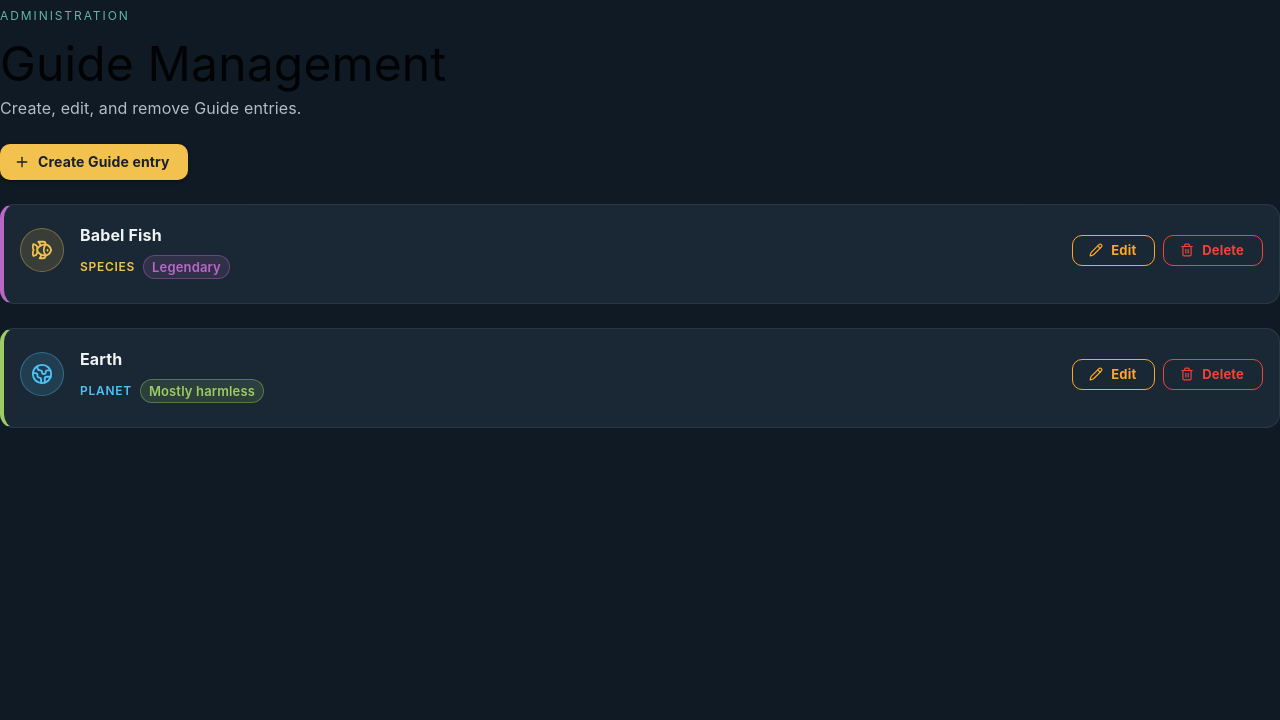
it: AdminGuidePage › opens an empty create dialog from the create button
Check: the heading "Earth" is shown, box [80, 349, 122, 369]
Click the button "Create Guide entry" at (94, 162), box [0, 144, 188, 180]
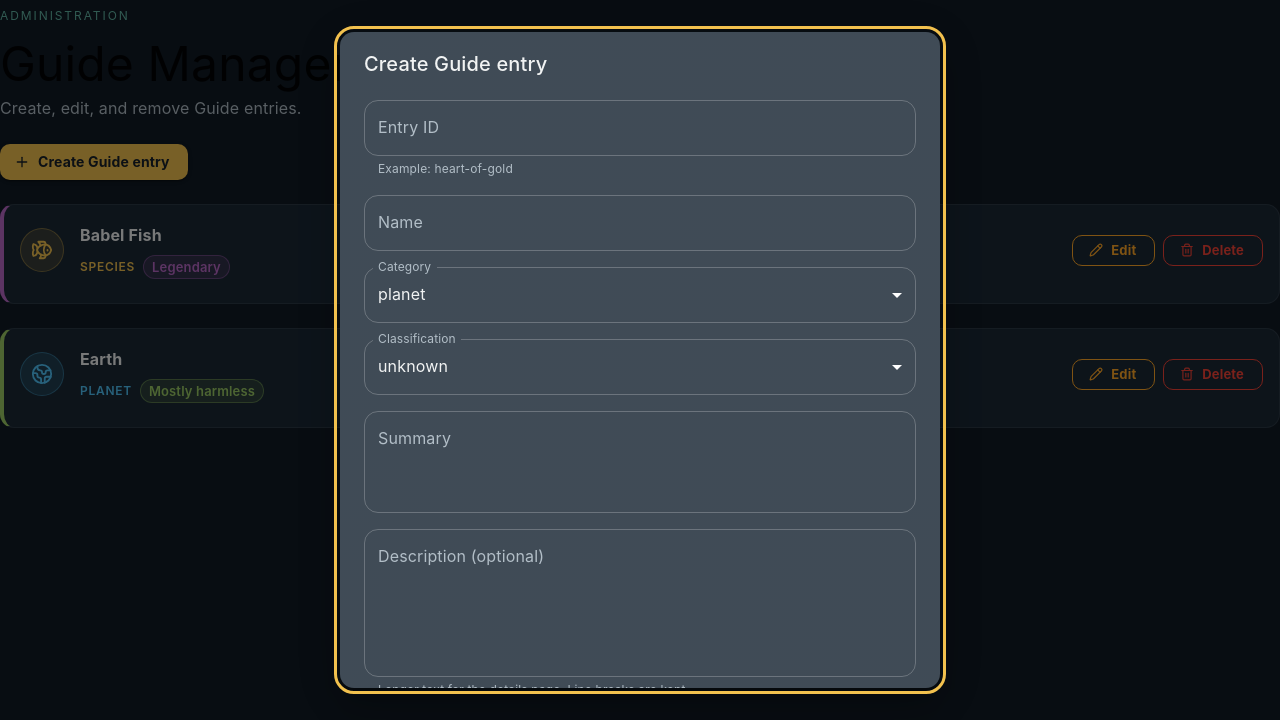
Check: the field labelled "Entry ID" is empty, box [364, 100, 916, 156]
Check: the field labelled "Entry ID" is enabled, box [364, 100, 916, 156]
